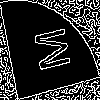M: (25, 25, 72, 76)
